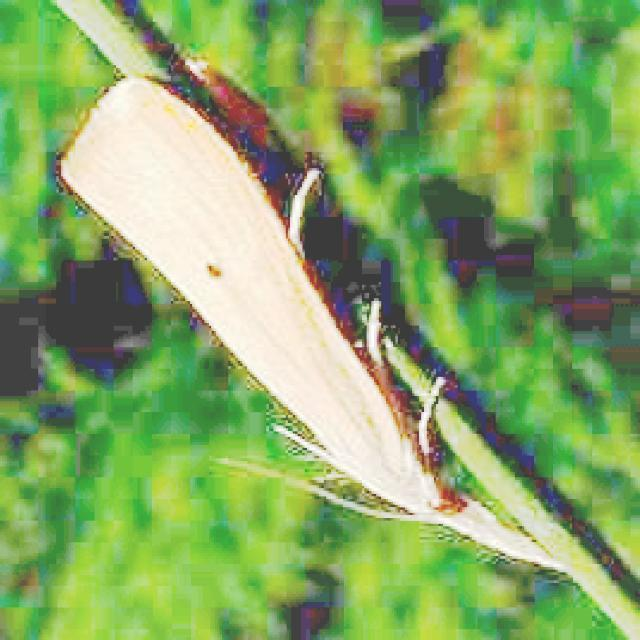stem-borer: (47, 52, 574, 574)
